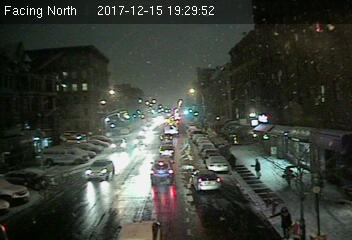car: (192, 167, 223, 191), (149, 158, 175, 183), (85, 159, 114, 181), (206, 156, 230, 174), (159, 144, 175, 159), (159, 132, 174, 146)
pedestrian: (270, 203, 296, 240), (252, 157, 264, 180)
